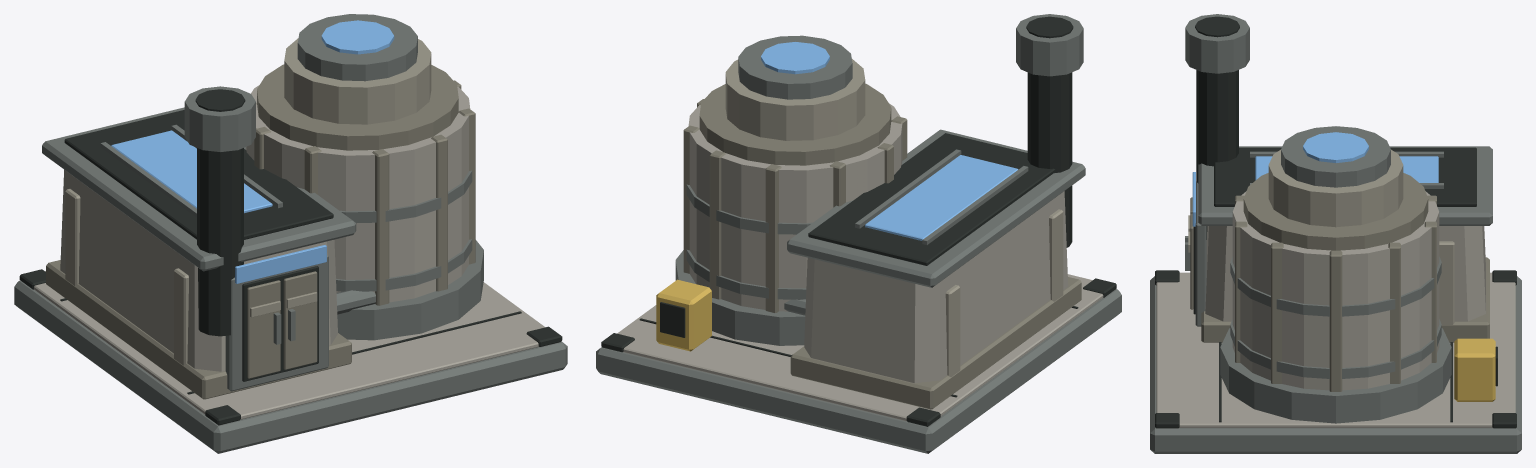
Rendered from reactor.glb.
3 views of the same model, side by side, from view 1: azimuth 30°, elevation 25°; view 2: azimuth 150°, elevation 25°; view 3: azimuth 270°, elevation 25° (orthographic). The views are drawn at different scales.
Parts seen in each view (by area): view 1: reactor; view 2: reactor; view 3: reactor.
Boxes of the visible parts, x1,y1,x2,y2 form: reactor: [14, 14, 567, 453]; reactor: [596, 14, 1121, 453]; reactor: [1150, 14, 1521, 453].
Size of the model in its own units: 2.7 by 2.33 by 2.7.
